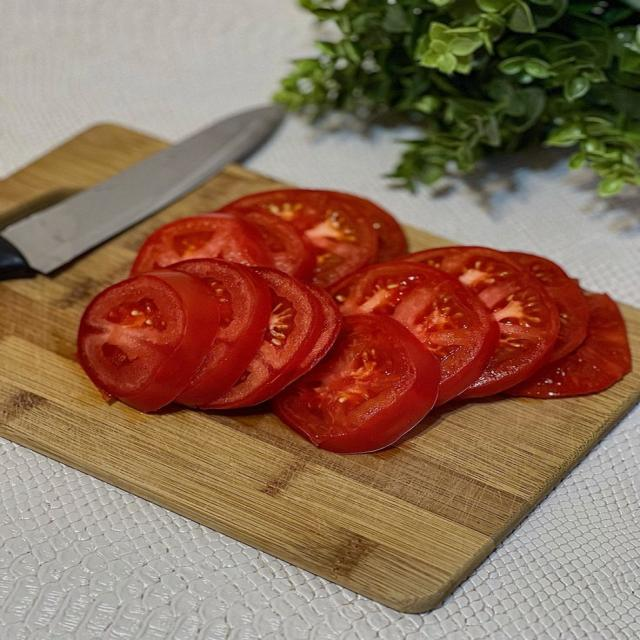sliced tomatoe: (330, 262, 499, 404), (405, 247, 559, 397), (274, 315, 439, 453), (78, 270, 219, 411), (201, 268, 322, 409), (171, 259, 271, 406), (226, 190, 377, 287), (507, 295, 631, 397), (508, 252, 588, 362), (132, 213, 273, 275), (326, 192, 406, 262), (240, 211, 315, 280), (287, 286, 341, 380)
